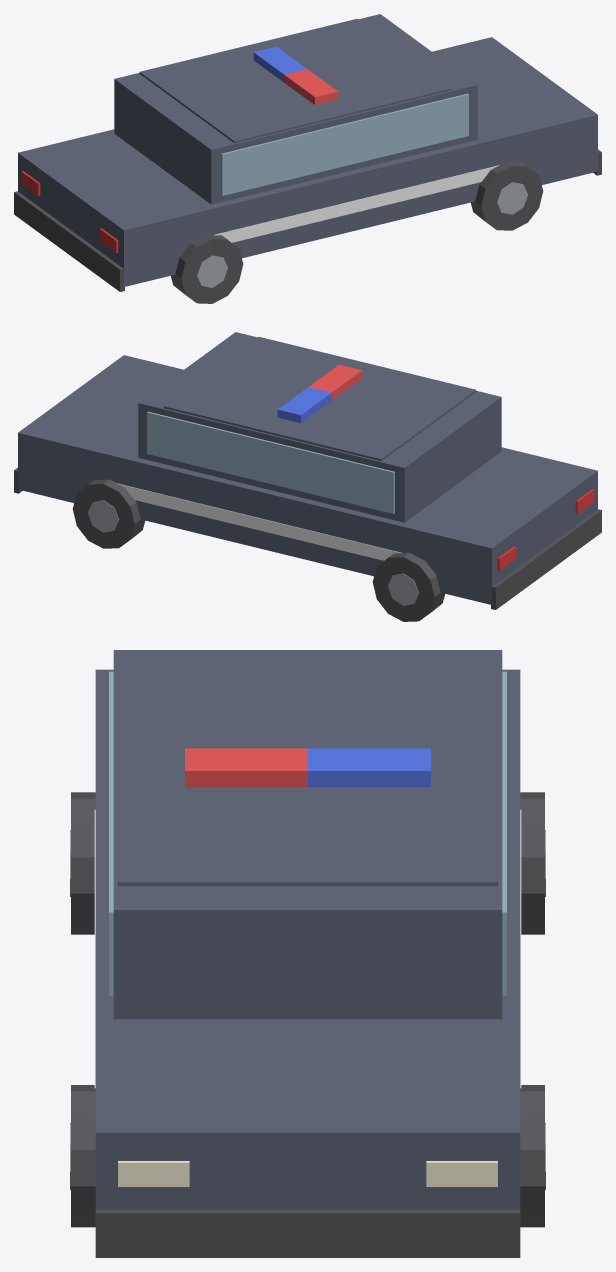
Rendered from dm_carpolice.glb.
The picture shows the model from 3 angles, top to bottom: view 1: azimuth 30°, elevation 25°; view 2: azimuth 150°, elevation 25°; view 3: azimuth 270°, elevation 25°; orthographic projection. The views are drawn at different scales.
Parts seen in each view (by area): view 1: carpolice; view 2: carpolice; view 3: carpolice.
Part boxes in pixels (x1,y1,x2,y2): carpolice: [14, 14, 601, 303]; carpolice: [14, 332, 601, 621]; carpolice: [70, 650, 545, 1257].
Size of the model in its own units: 4.98 by 1.52 by 2.13.
